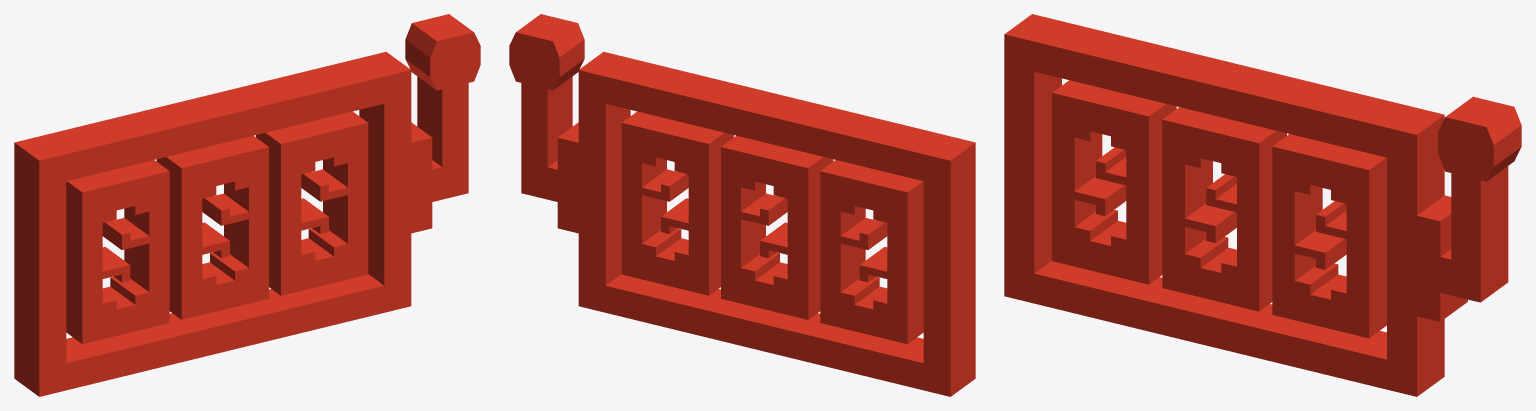
Rendered from Icon_Casino.fbx.
3 renders of one model, left to right at view 1: azimuth 30°, elevation 25°; view 2: azimuth 150°, elevation 25°; view 3: azimuth 330°, elevation 25°, orthographic. The views are drawn at different scales.
Parts seen in each view (by area): view 1: Icon_Casino; view 2: Icon_Casino; view 3: Icon_Casino.
Boxes of the visible parts, x1,y1,x2,y2 form: Icon_Casino: (14,14,480,396); Icon_Casino: (509,14,975,396); Icon_Casino: (1004,14,1521,396).
Size of the model in its own units: 123 by 68.72 by 12.06.
